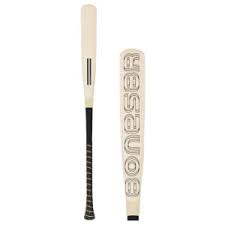baseball bat: (118, 45, 148, 225), (79, 3, 98, 219)
